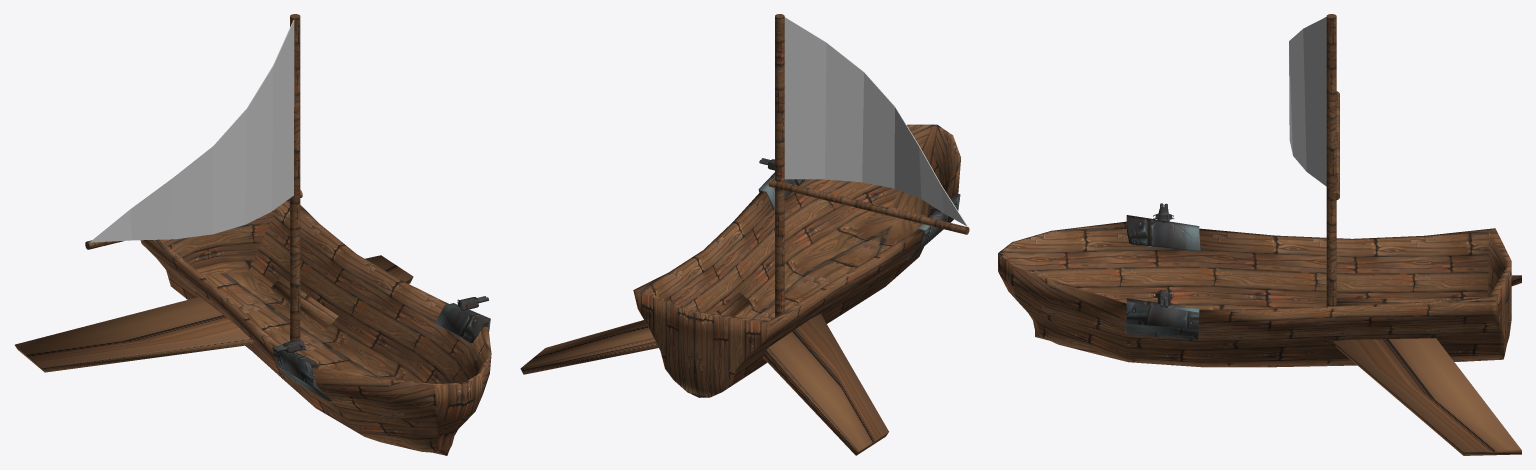
Rendered from boat.obj.
The picture shows the model from 3 angles, left to right: view 1: azimuth 30°, elevation 25°; view 2: azimuth 150°, elevation 25°; view 3: azimuth 270°, elevation 25°; orthographic projection. The views are drawn at different scales.
Visible parts, largest first — view 1: Cube_Cube.001, Plane, Cylinder.001; view 2: Cube_Cube.001, Plane, Cylinder.001; view 3: Cube_Cube.001, Plane, Cylinder.001.
Part boxes in pixels (x1,y1,x2,y2): Cube_Cube.001: [15, 200, 491, 455]; Plane: [90, 20, 294, 242]; Cylinder.001: [85, 14, 302, 341]; Cube_Cube.001: [520, 124, 960, 455]; Plane: [784, 17, 967, 226]; Cylinder.001: [768, 14, 969, 316]; Cube_Cube.001: [998, 203, 1521, 455]; Plane: [1289, 17, 1326, 186]; Cylinder.001: [1326, 14, 1339, 306].
Size of the model in its own units: 42.64 by 37.59 by 50.57.
